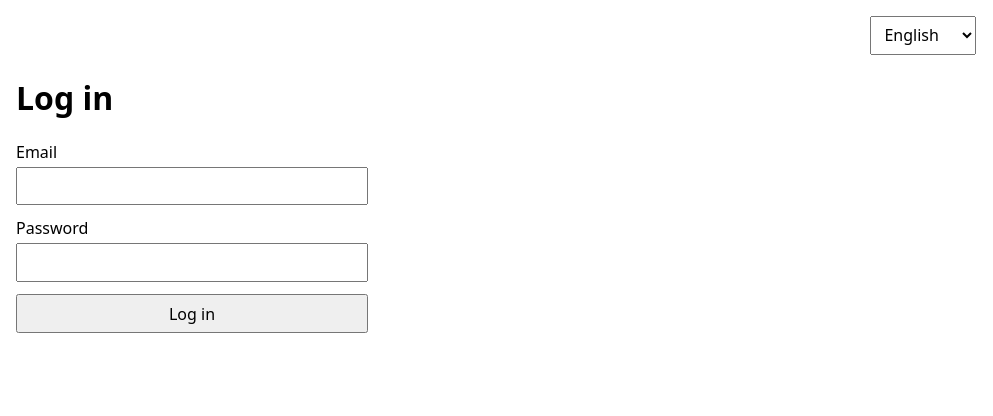
Test: login failure 401 shows its message
Type "a@x.com" into the field labelled "Email".
click(192, 186); type("a@x.com")  # box [16,167,368,206]
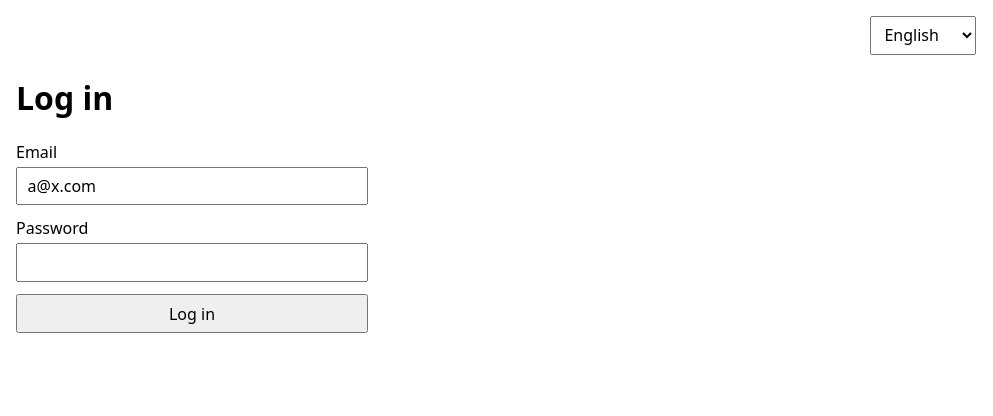
Type "pw" into the password field labelled "Password".
click(192, 263); type("pw")  # box [16,243,368,282]
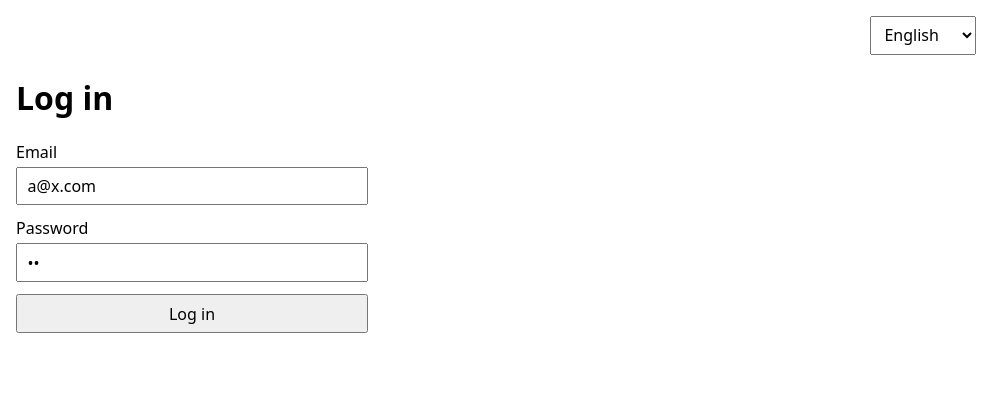
Click the button "Log in".
click(192, 314)  # box [16,294,368,333]
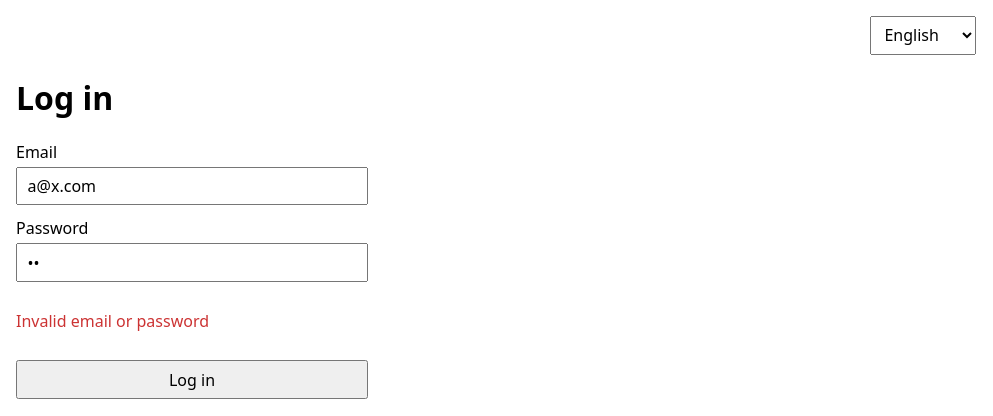
Check: the message reads "Invalid email or password", box [16,310,209,332]
